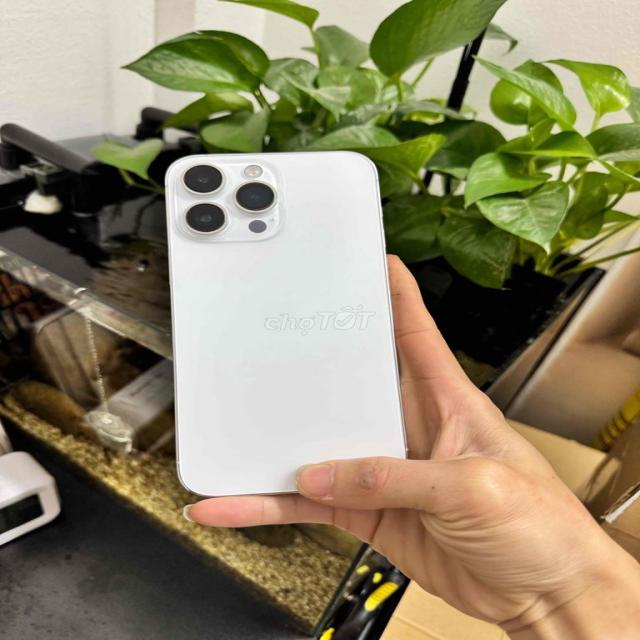gen_14: (147, 137, 415, 503)
